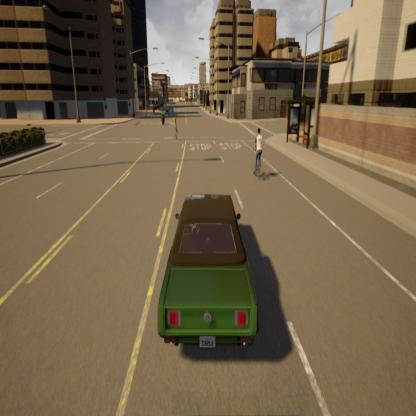Cars: (152, 184, 266, 369), (165, 104, 176, 116)
Pedestrian: (170, 104, 182, 139)
